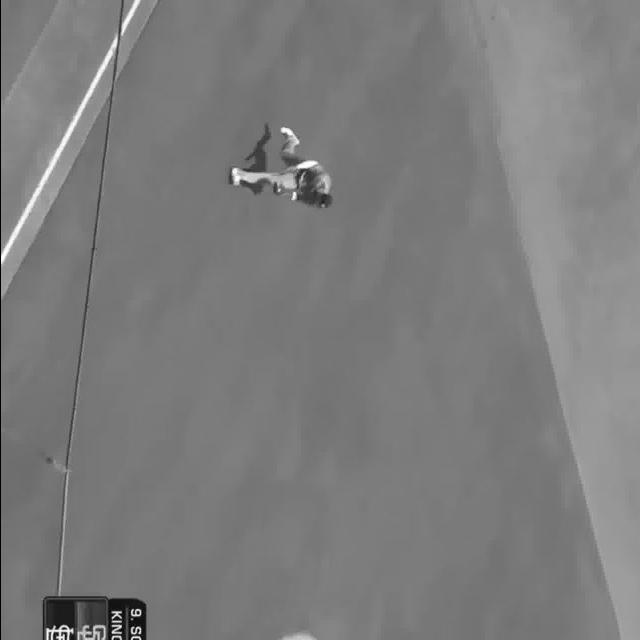baseball_glove: (271, 184, 283, 196)
shoe: (280, 122, 297, 144), (230, 169, 238, 183)
